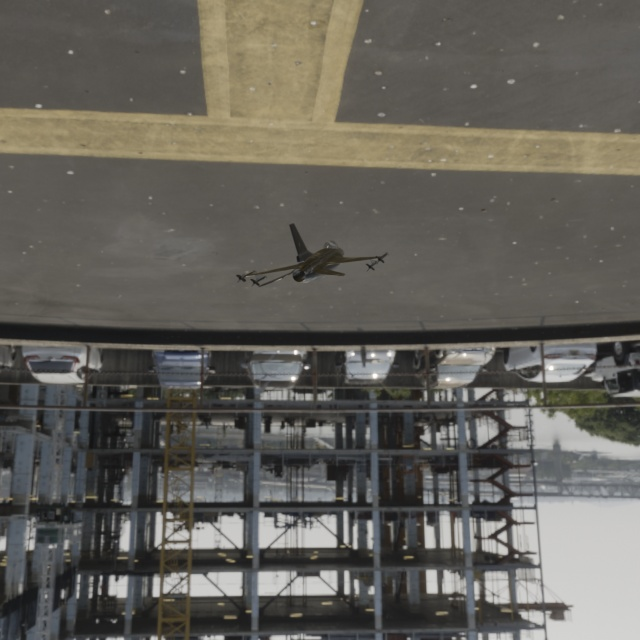model: (218, 200, 404, 300)
